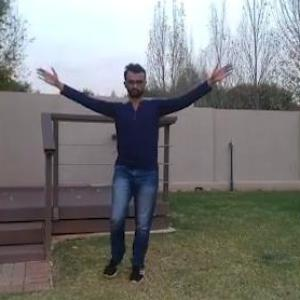takeoff: (34, 58, 234, 280)
